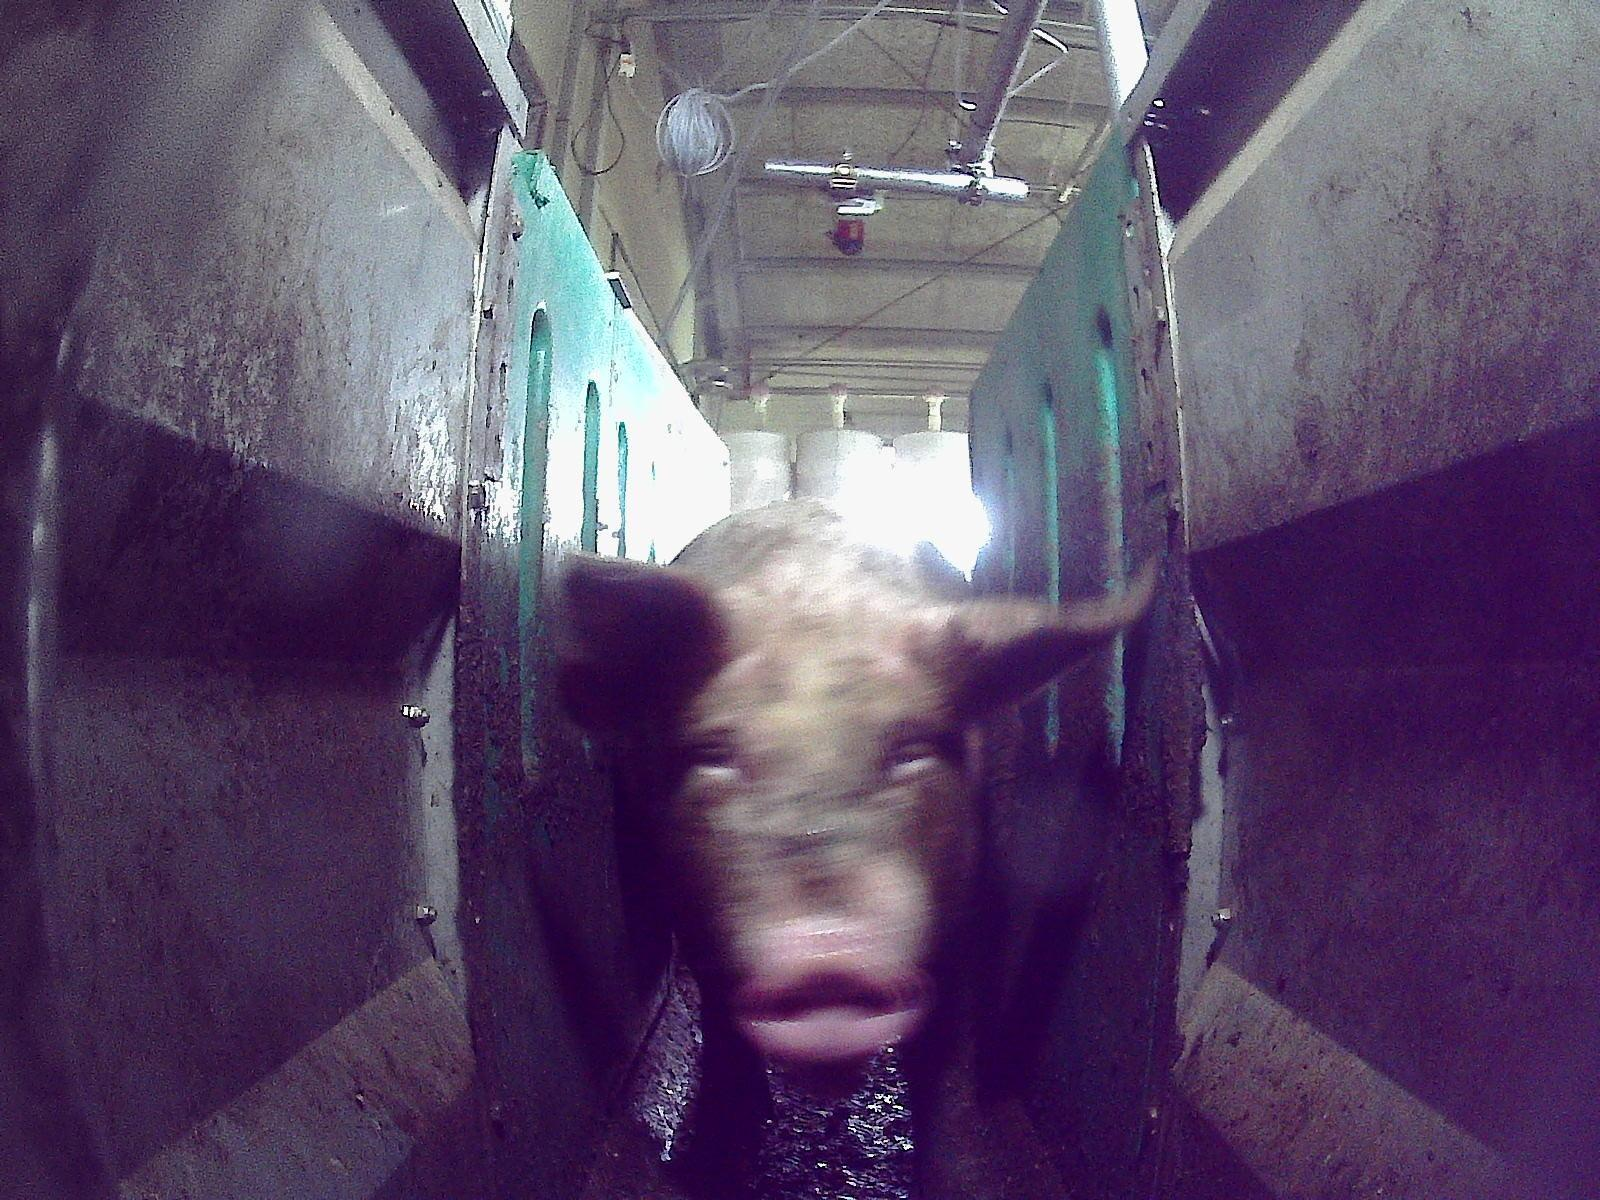Face: (650, 627, 975, 1099)
